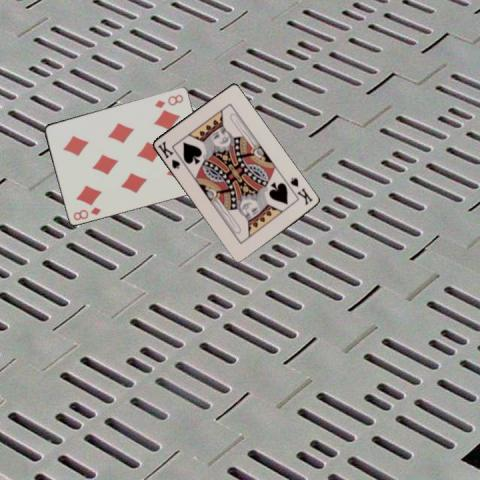8d: (152, 92, 185, 110), (70, 204, 102, 221)
Ks: (287, 174, 314, 206), (155, 138, 181, 170)
